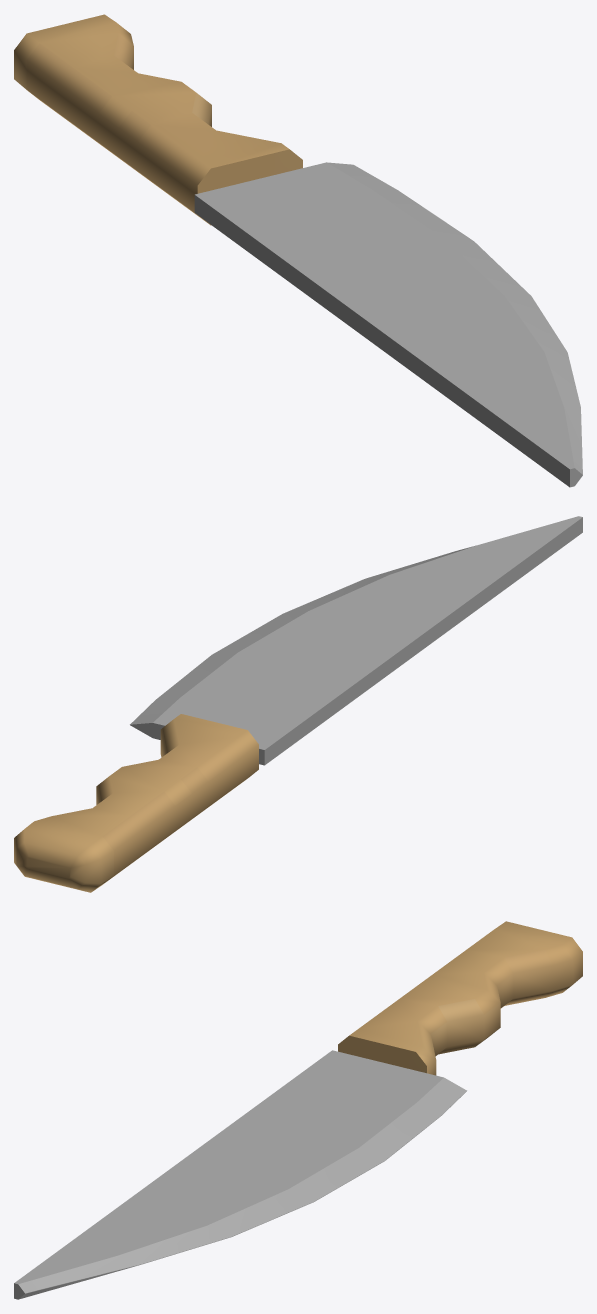
Rendered from Knife.fbx.
The picture shows the model from 3 angles, top to bottom: view 1: azimuth 30°, elevation 25°; view 2: azimuth 150°, elevation 25°; view 3: azimuth 330°, elevation 25°; orthographic projection. The views are drawn at different scales.
Parts seen in each view (by area): view 1: Knife; view 2: Knife; view 3: Knife.
Part boxes in pixels (box(x1,y1,x2,y2)): Knife: box(14, 14, 582, 487); Knife: box(14, 516, 582, 892); Knife: box(14, 921, 582, 1299).
Bounding box in the file's own units: 247 × 78.77 × 1431.
Materials: 2 (1 with a texture image).
